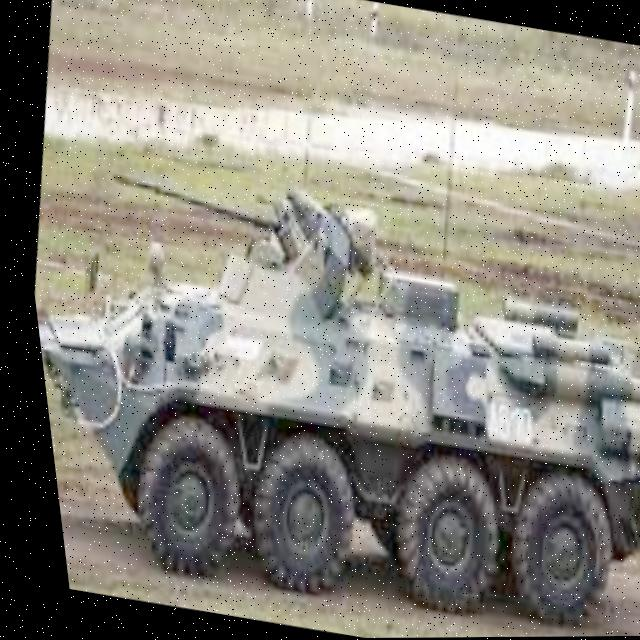MIL_APC: (19, 198, 640, 640)
